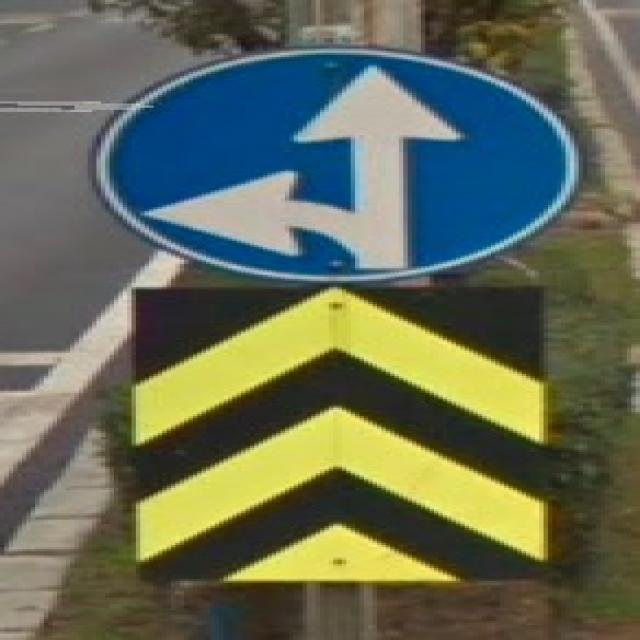Straight or Left: (95, 50, 582, 282)
